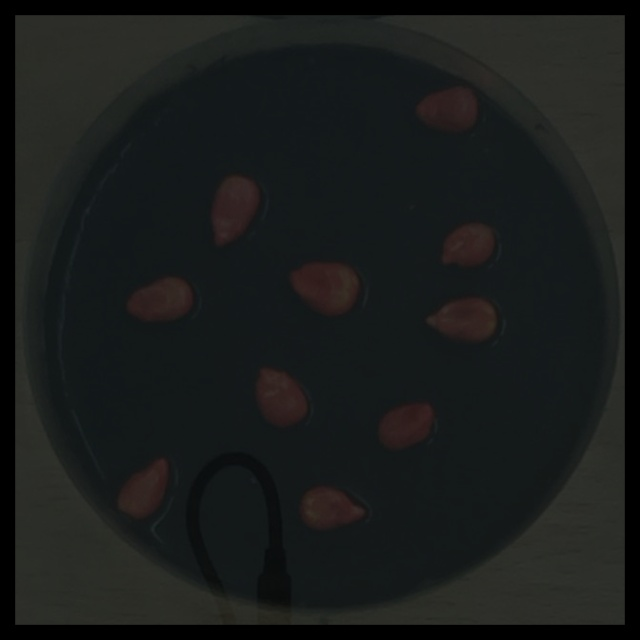Zea mays: (279, 255, 366, 323), (202, 169, 265, 254), (418, 290, 502, 351), (247, 360, 314, 434), (110, 450, 175, 526), (292, 479, 375, 537), (119, 270, 199, 328), (408, 80, 483, 139), (370, 396, 440, 458), (434, 217, 500, 275)
